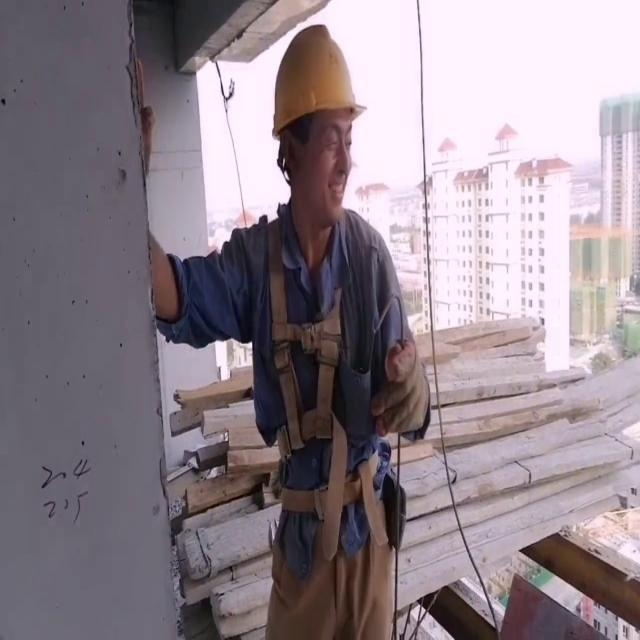Arnes_seguridad: (256, 197, 370, 467)
